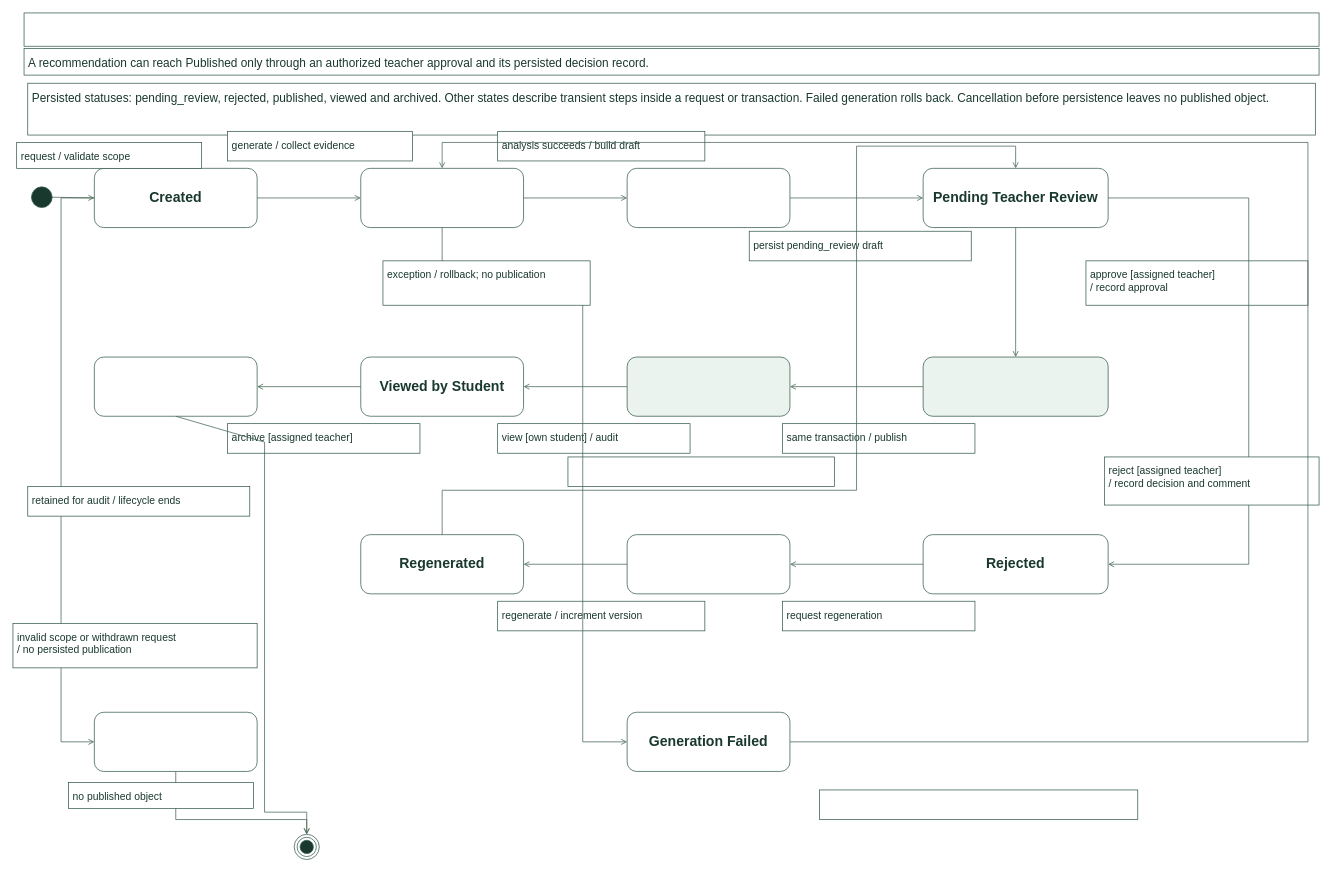
Image size: 1332x872. Some labels were removed from this diagram. The shapes that lost their labels are listed below. From the top down, each one's centre as x and y in pixels, then its label:
At point (671, 29): "AI Recommendation State Machine".
At point (442, 198): "Analysis Pending".
At point (708, 198): "Generated".
At point (175, 386): "Archived".
At point (708, 386): "Published".
At point (1015, 386): "Approved".
At point (700, 471): "new draft / require review again".
At point (708, 564): "Revision Required".
At point (175, 741): "Cancelled".
At point (978, 804): "retry [scope valid] / collect evidence".
